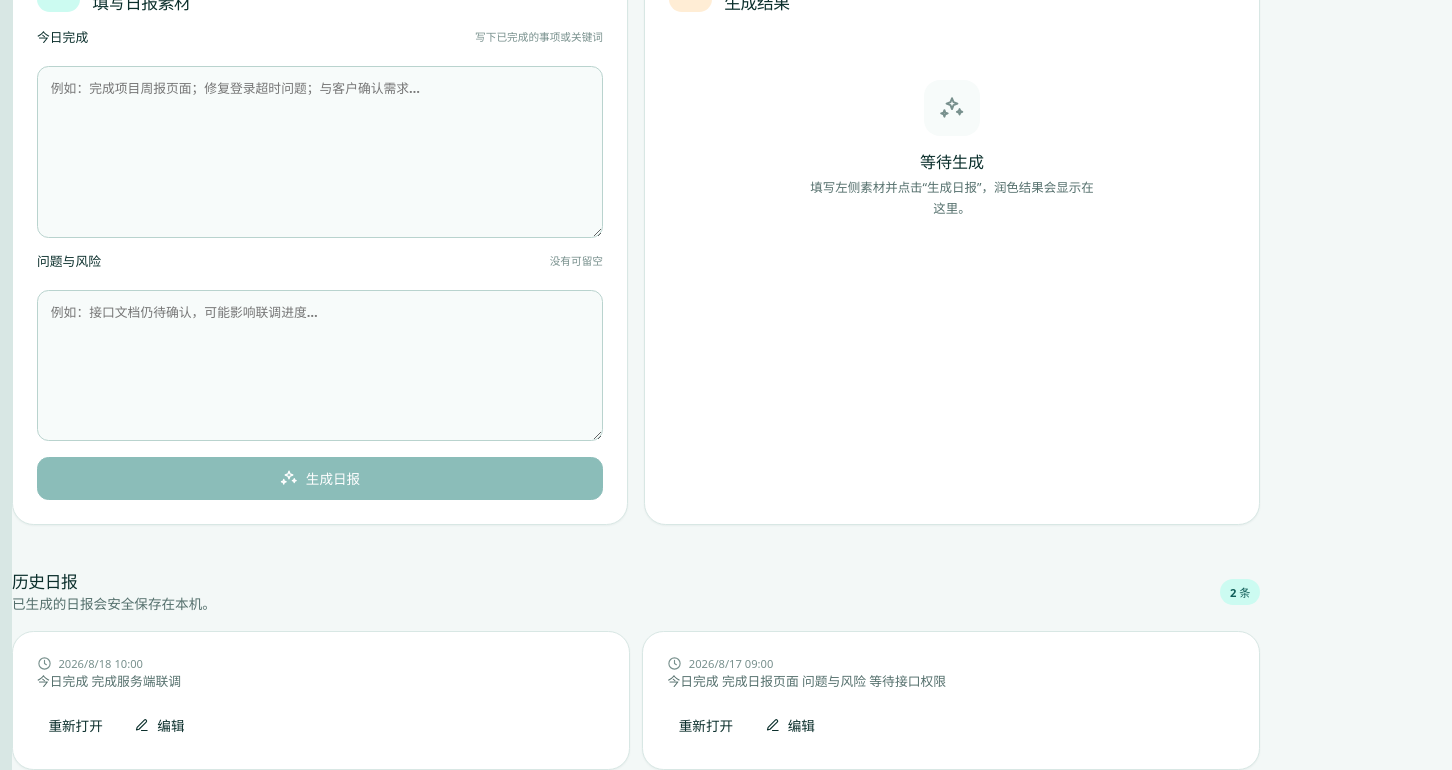
Test case: AI Office daily report flow › shows newest-first history with previews and supports reopen, edit, and successful save
The image size is (1452, 770).
(page scrolled)
Expected: the text "2026/8/18 10:00" is shown, [37,656,143,671]
Expected: the text "今日完成 完成服务端联调" is shown, [37,672,181,690]
Click the button "重新打开" below "今日完成 完成服务端联调": (76, 725) [37,705,114,745]
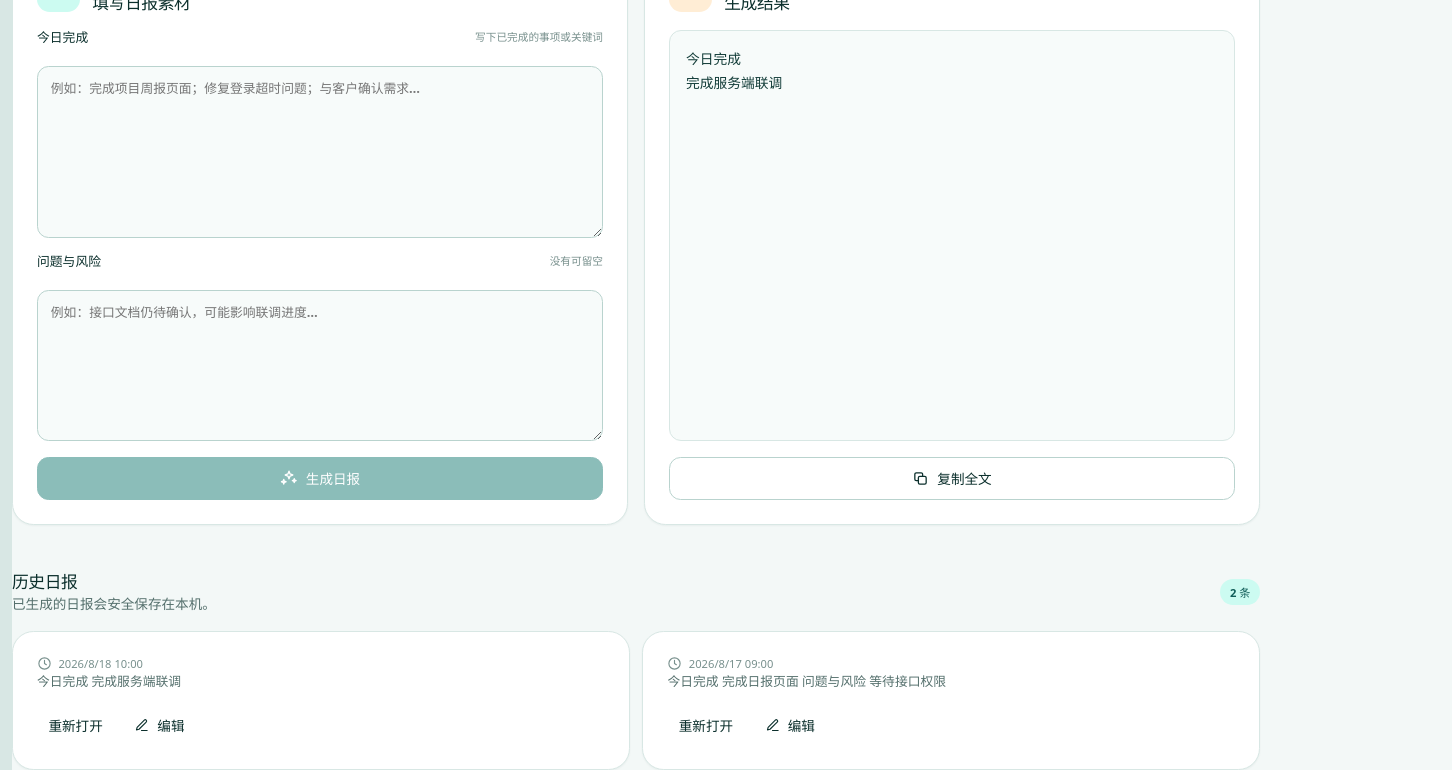
Now the element "生成结果" shows "完成服务端联调", box [686,49,782,92]
Click the button "编辑" below "2026/8/18 10:00": (160, 725) [123,705,196,745]
(page scrolled)
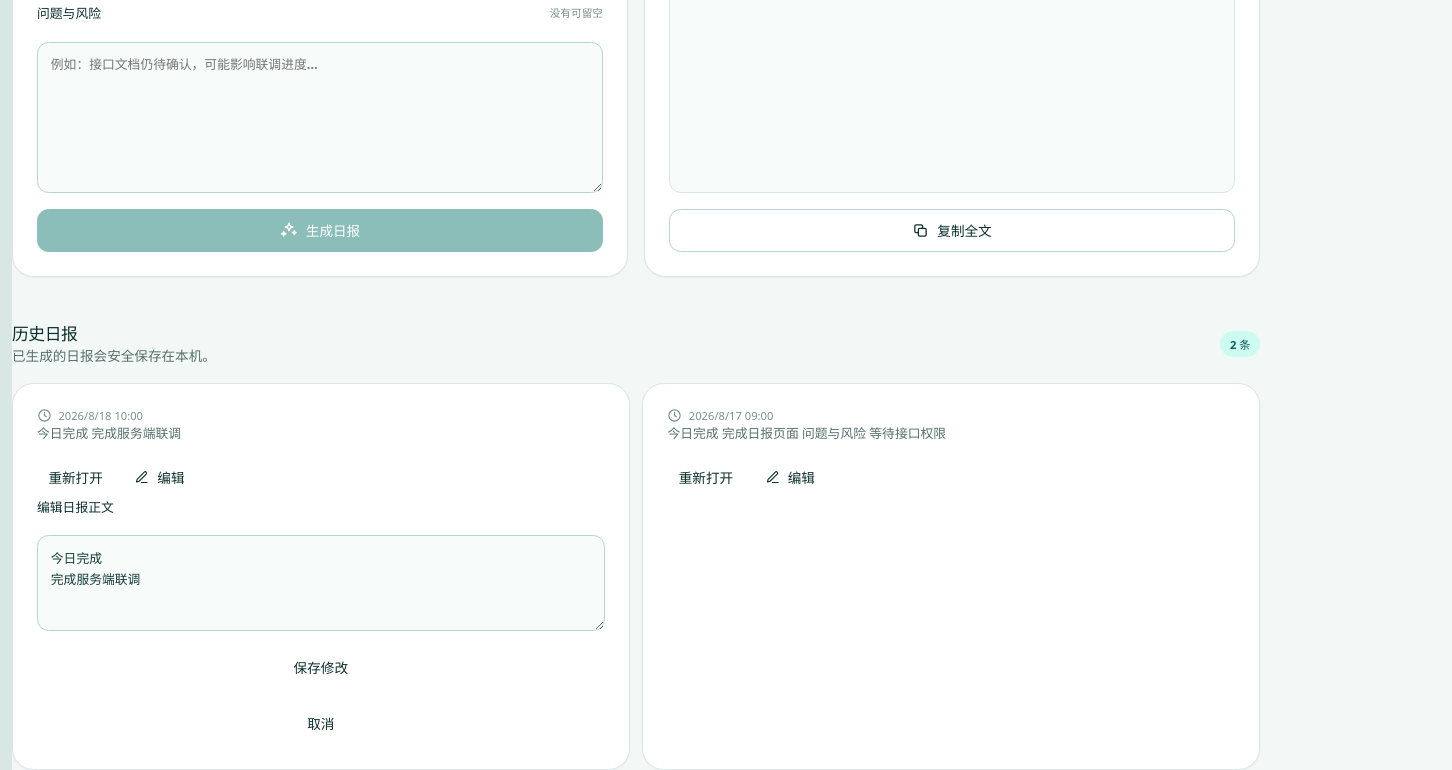
Replace the text in the text box labelled "编辑日报正文" with "修改后的日报正文": (321, 583) [37,535,605,631]
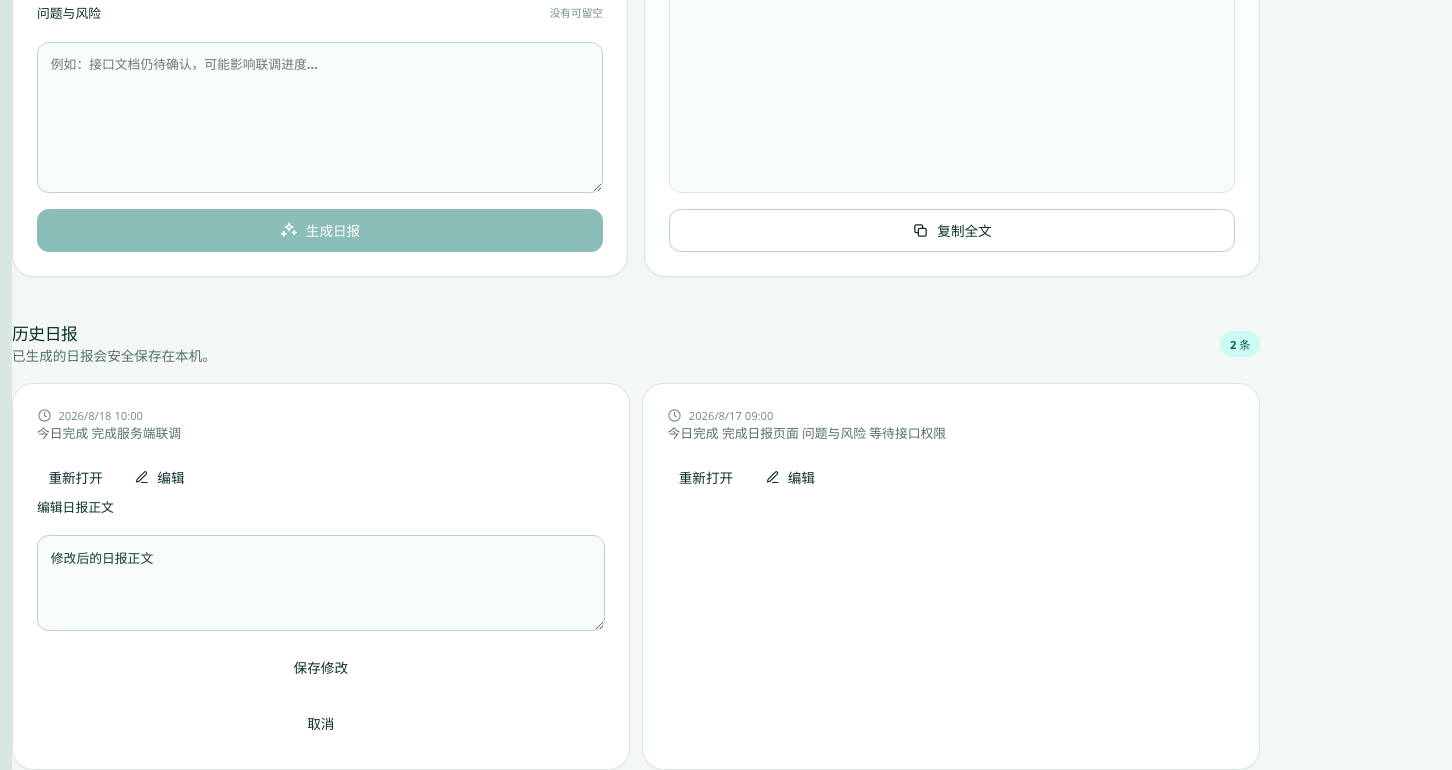
Click the button "保存修改": (321, 666) [37,645,605,688]
(page scrolled)
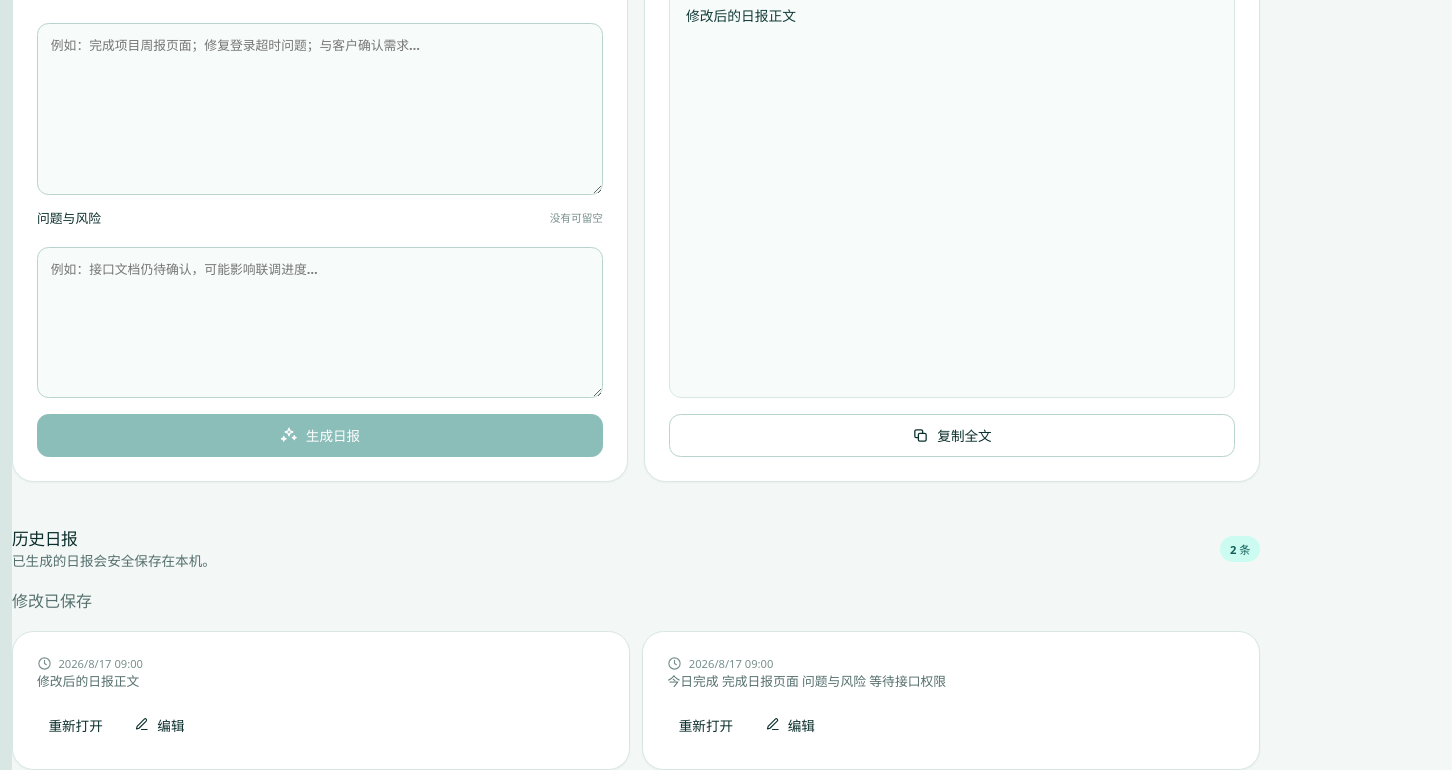
Now the text "修改已保存" is shown, box [12,590,92,612]
